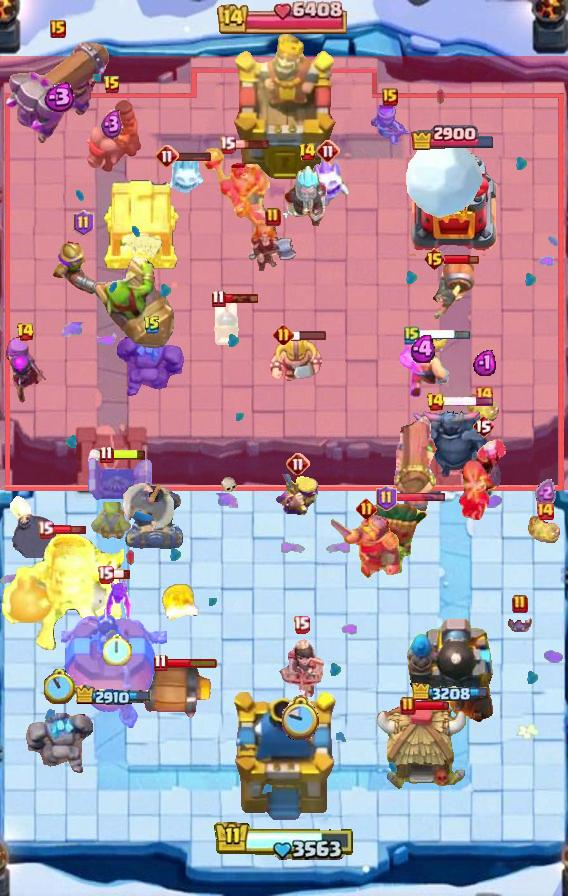archer: (369, 104, 411, 148)
axe: (122, 466, 176, 530)
bar: (418, 328, 472, 341), (165, 657, 218, 669), (442, 396, 495, 407), (394, 492, 446, 503), (111, 448, 147, 461), (52, 523, 87, 536), (234, 138, 271, 150), (414, 700, 450, 712), (291, 329, 327, 341), (176, 150, 212, 162), (444, 253, 479, 265), (224, 293, 259, 304), (111, 568, 131, 580)
bar-level: (286, 452, 310, 476), (155, 144, 179, 168), (316, 139, 340, 163), (423, 247, 446, 271), (376, 485, 397, 511), (73, 210, 94, 236), (472, 414, 494, 438), (356, 498, 377, 519), (273, 324, 294, 345), (535, 501, 555, 521), (474, 385, 494, 405), (426, 392, 445, 412), (16, 322, 35, 342), (298, 142, 317, 162), (143, 315, 161, 335), (103, 75, 121, 95), (293, 615, 310, 634), (97, 565, 114, 584), (37, 520, 54, 539), (219, 135, 236, 154), (400, 696, 416, 716), (512, 594, 528, 614), (404, 325, 420, 345), (265, 207, 281, 227), (382, 88, 398, 106), (50, 20, 66, 38), (153, 653, 168, 672), (99, 445, 114, 464), (211, 289, 226, 308)
barbarian-barrel: (133, 660, 213, 720)
barbarian-evolution: (275, 474, 321, 517)
bat: (505, 611, 535, 635)
bat-evolution: (102, 576, 132, 620)
bomb: (7, 496, 59, 558)
cannoneer-tower: (406, 611, 500, 731)
clock: (282, 695, 321, 740), (44, 669, 76, 704), (103, 633, 132, 666)
dart-goblin: (369, 498, 429, 574)
elite-barbarian: (399, 332, 450, 398), (269, 335, 323, 383)
elixir: (40, 82, 76, 112), (410, 335, 439, 363), (101, 109, 123, 140), (473, 348, 496, 376), (535, 479, 556, 506)
goblin: (91, 502, 135, 544)
golemite: (22, 708, 94, 776), (116, 331, 188, 399)
ice-spirit: (162, 157, 206, 197)
ice-spirit-evolution: (306, 154, 350, 208)
ice-wizard: (279, 164, 335, 226)
king-tower: (231, 34, 338, 181), (227, 692, 341, 826)
king-tower-bar: (214, 821, 355, 862), (217, 0, 351, 34)
knight: (330, 515, 403, 578)
lava-pup: (528, 515, 562, 547), (467, 393, 501, 425)
mortar: (125, 485, 185, 549)
mother-witch: (0, 336, 50, 406)
musketeer: (51, 238, 115, 304)
night-witch: (458, 438, 508, 524)
princess: (276, 639, 326, 697)
queen-tower: (61, 603, 167, 731), (408, 152, 498, 256)
ram-rider: (81, 98, 143, 174)
royal-hog: (210, 295, 242, 349)
tesla: (84, 456, 156, 504)
tower-bar: (410, 123, 496, 150), (412, 683, 494, 705), (75, 685, 153, 708)
valkyrie: (247, 220, 299, 272)
wall-breaker: (426, 257, 476, 321)
